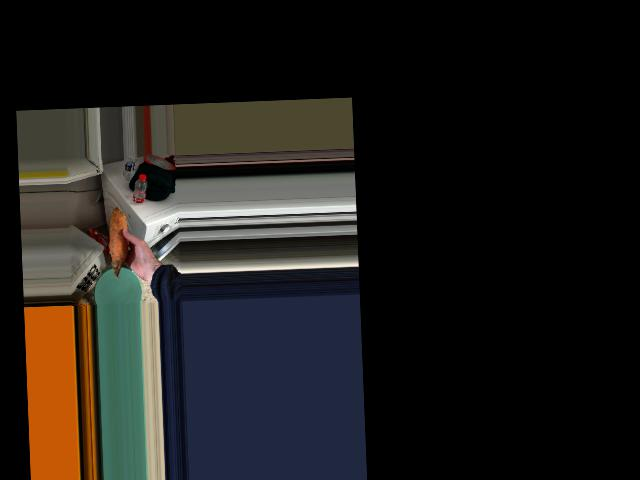sweet_potato: (108, 215, 132, 272)
